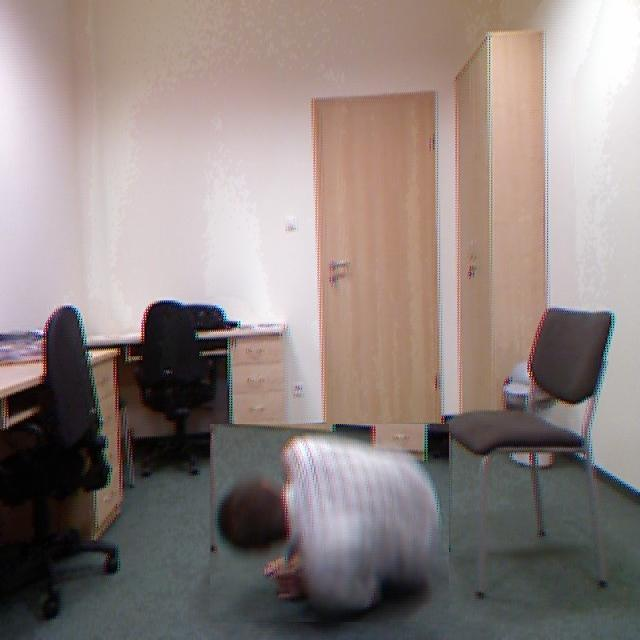Fall: (186, 436, 459, 640)
